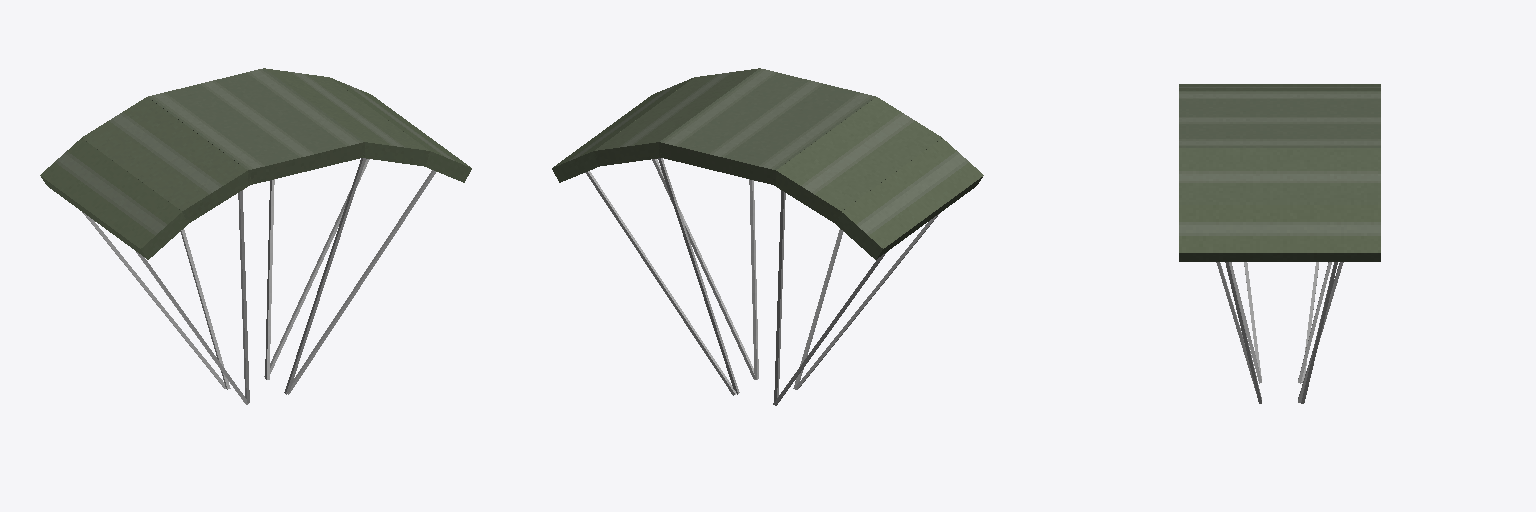
3 renders of one model, left to right at view 1: azimuth 30°, elevation 25°; view 2: azimuth 150°, elevation 25°; view 3: azimuth 270°, elevation 25°, orthographic.
Visible parts, largest first — view 1: parachute_obj:gunModel; view 2: parachute_obj:gunModel; view 3: parachute_obj:gunModel.
Part boxes in pixels (bbox=[...]): parachute_obj:gunModel: bbox=[40, 68, 471, 404]; parachute_obj:gunModel: bbox=[552, 68, 983, 405]; parachute_obj:gunModel: bbox=[1179, 84, 1380, 403].
Size of the model in its own units: 7.11 by 5.6 by 3.75.
1 materials, 1 textured.